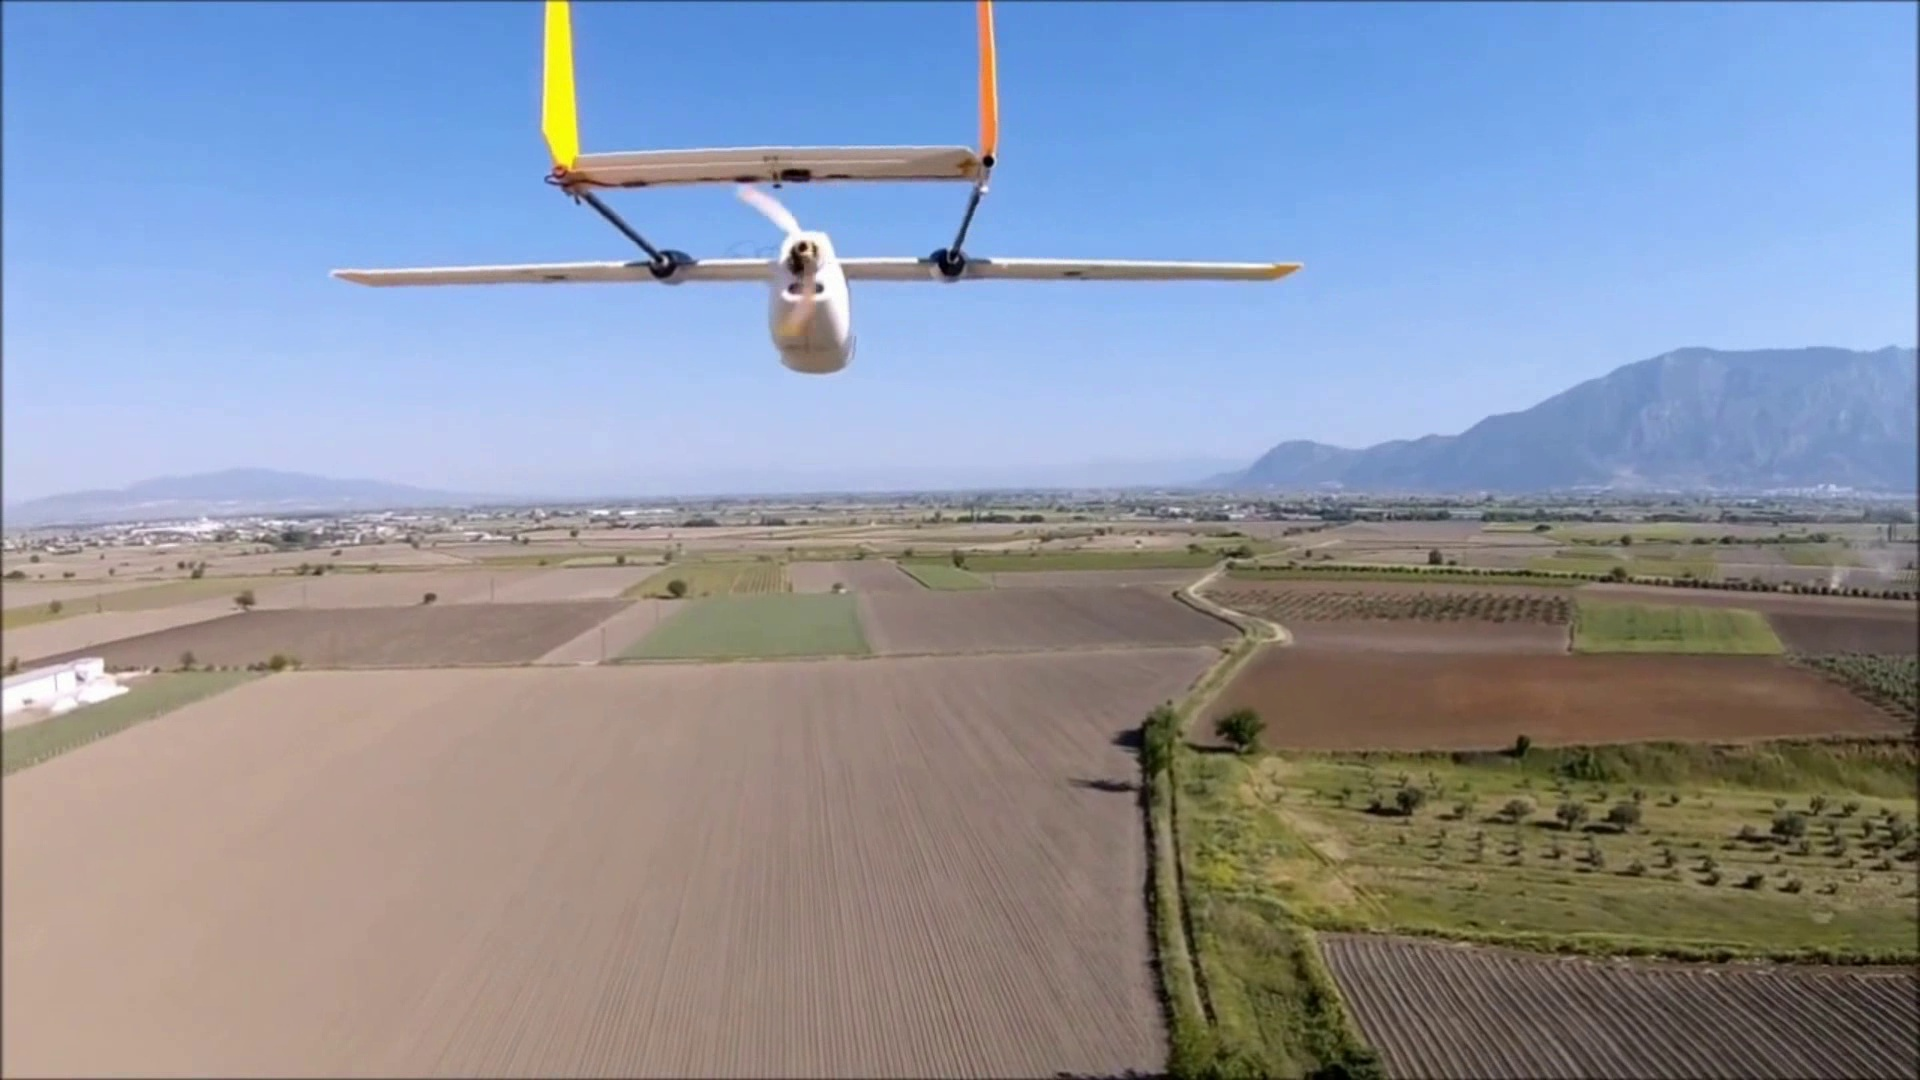airplane: (330, 4, 1302, 371)
